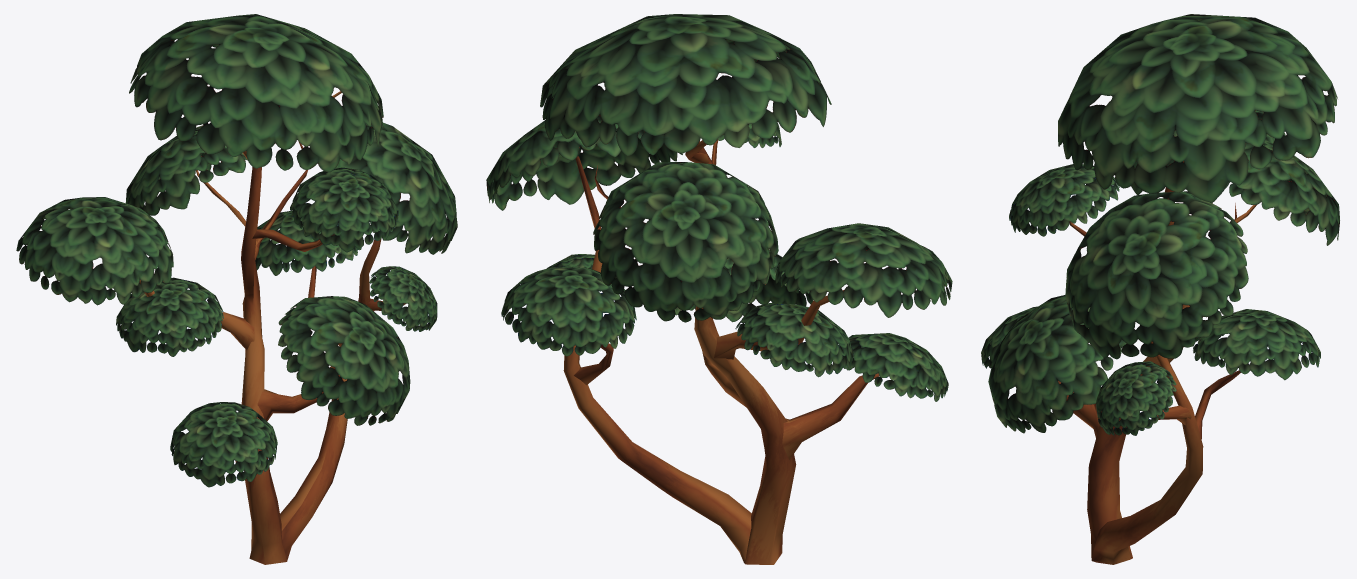
Rendered from Deciduous_tree.fbx.
3 views of the same model, side by side, from view 1: azimuth 30°, elevation 25°; view 2: azimuth 150°, elevation 25°; view 3: azimuth 270°, elevation 25° (orthographic). The views are drawn at different scales.
Visible parts, largest first — view 1: Deciduous_tree_large; view 2: Deciduous_tree_large; view 3: Deciduous_tree_large.
Part boxes in pixels (<box>): Deciduous_tree_large: <box>16,14,457,564</box>; Deciduous_tree_large: <box>486,14,952,564</box>; Deciduous_tree_large: <box>981,14,1339,564</box>.
Size of the model in its own units: 852 by 990 by 606.
